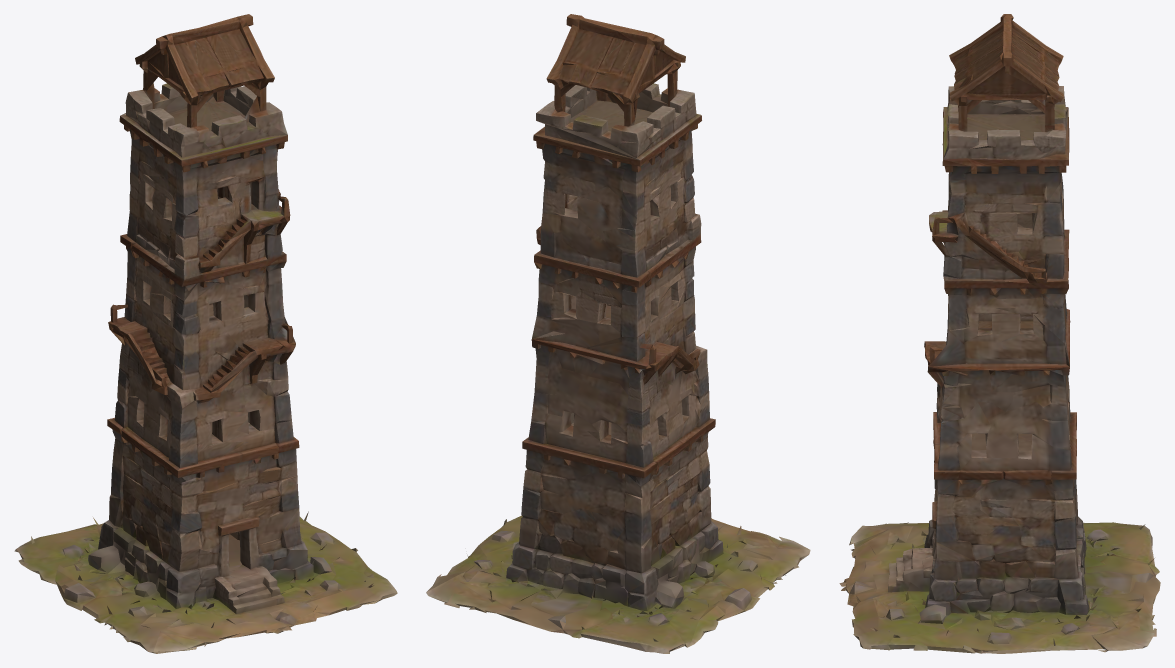
File: tower.glb
The picture shows the model from 3 angles, left to right: view 1: azimuth 30°, elevation 25°; view 2: azimuth 150°, elevation 25°; view 3: azimuth 270°, elevation 25°; orthographic projection.
Size of the model in its own units: 0.9797 by 1.9 by 0.9978.
1 material, 1 textured.
